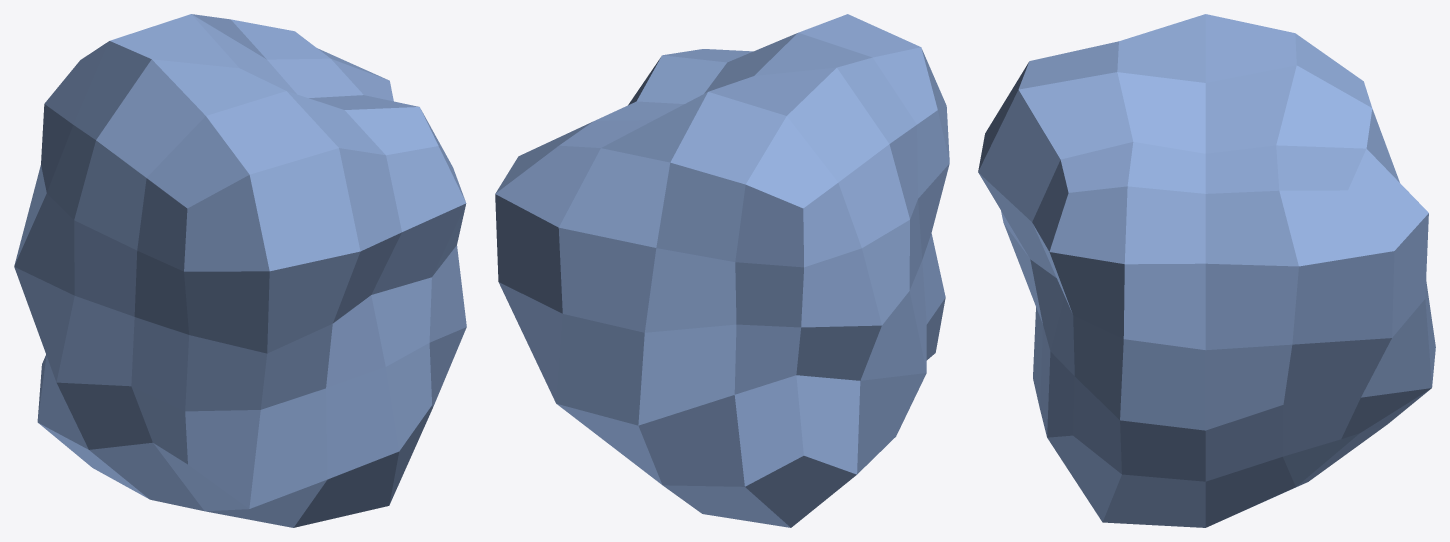
Rendered from Meteorite03001RS.fbx.
3 views of the same model, side by side, from view 1: azimuth 30°, elevation 25°; view 2: azimuth 150°, elevation 25°; view 3: azimuth 270°, elevation 25° (orthographic). The views are drawn at different scales.
Visible parts, largest first — view 1: Meteorite03; view 2: Meteorite03; view 3: Meteorite03.
Boxes of the visible parts, x1,y1,x2,y2 form: Meteorite03: [14, 14, 466, 527]; Meteorite03: [495, 14, 949, 527]; Meteorite03: [978, 14, 1435, 527].
Bounding box in the file's own units: 307 × 361 × 338.
